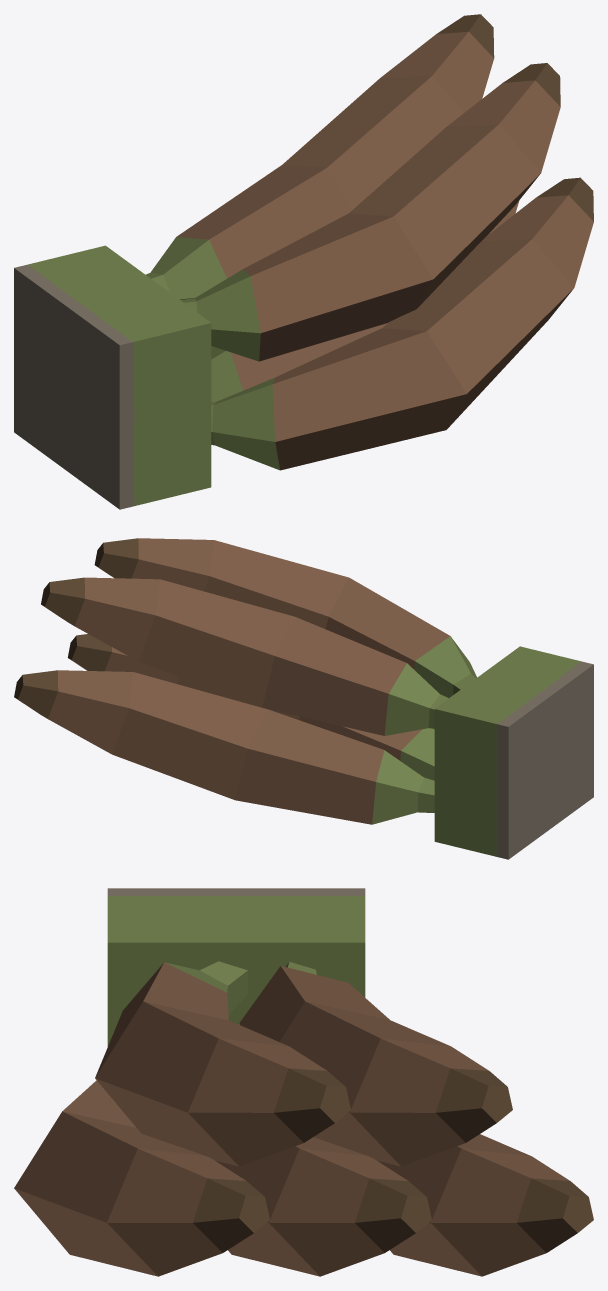
File: FD_BananaBunch_Rotten_01.glb
3 views of the same model, one above another, from view 1: azimuth 30°, elevation 25°; view 2: azimuth 150°, elevation 25°; view 3: azimuth 270°, elevation 25° (orthographic). The views are drawn at different scales.
Parts seen in each view (by area): view 1: FD_BananaBunch_Rotten_01; view 2: FD_BananaBunch_Rotten_01; view 3: FD_BananaBunch_Rotten_01.
Part boxes in pixels (left/top/right/bottom): FD_BananaBunch_Rotten_01: left=14, top=14, right=593, bottom=509; FD_BananaBunch_Rotten_01: left=14, top=538, right=593, bottom=859; FD_BananaBunch_Rotten_01: left=14, top=888, right=593, bottom=1276.
Size of the model in its own units: 0.2015 by 0.0933 by 0.1576.
1 material, 1 textured.
